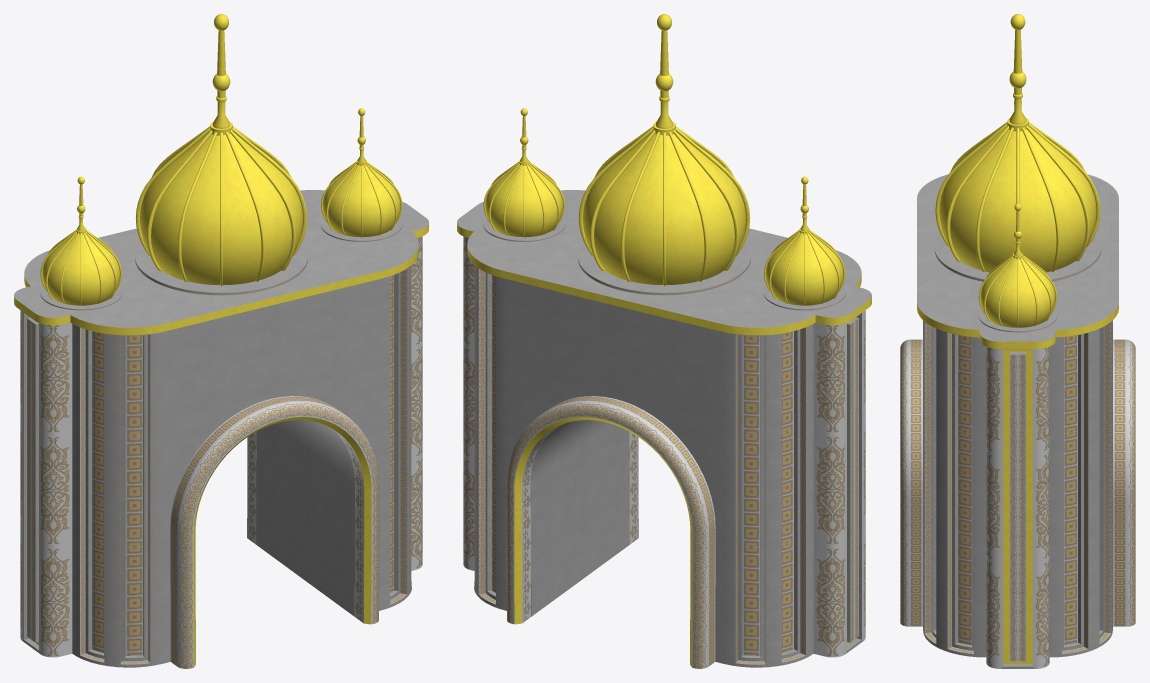
File: SM_entrance_large_02.glb
3 renders of one model, left to right at view 1: azimuth 30°, elevation 25°; view 2: azimuth 150°, elevation 25°; view 3: azimuth 270°, elevation 25°, orthographic. The views are drawn at different scales.
Parts seen in each view (by area): view 1: SM_entrance_large_02; view 2: SM_entrance_large_02; view 3: SM_entrance_large_02.
Part boxes in pixels (x1,y1,x2,y2): SM_entrance_large_02: (14,14,428,668); SM_entrance_large_02: (457,14,871,668); SM_entrance_large_02: (900,14,1135,668).
Size of the model in its own units: 25.21 by 36.14 by 13.65.
Materials: 4 (4 with a texture image).
